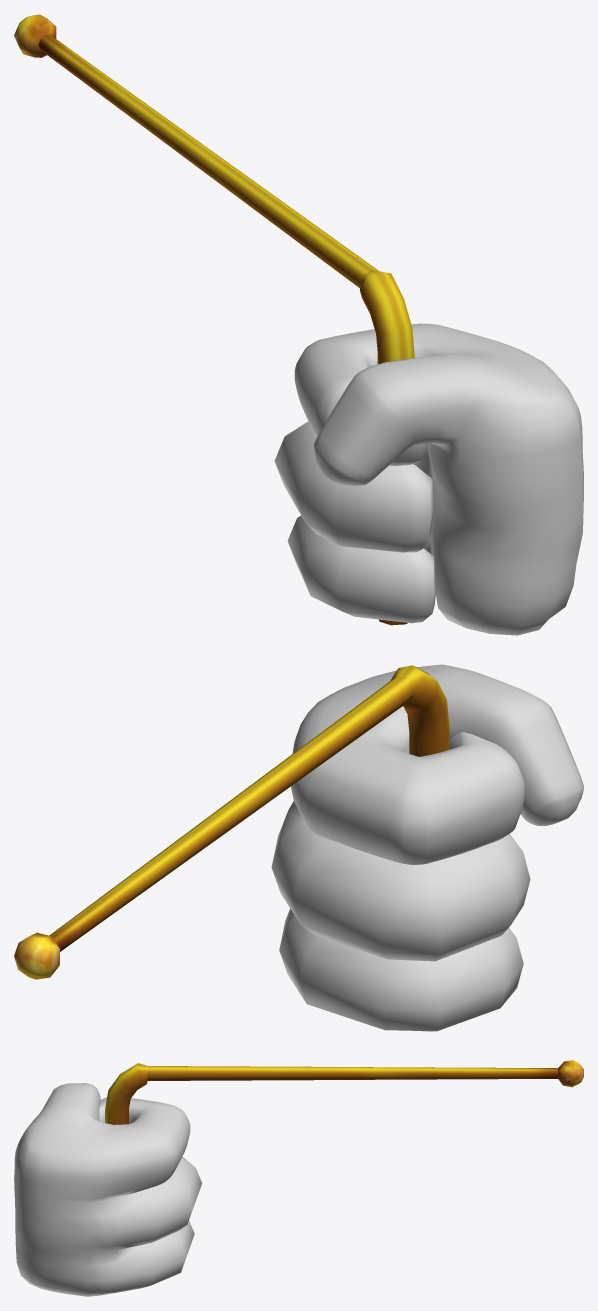
File: Lrod_R.FBX
3 renders of one model, top to bottom at view 1: azimuth 30°, elevation 25°; view 2: azimuth 150°, elevation 25°; view 3: azimuth 270°, elevation 25°, orthographic. The views are drawn at different scales.
Parts seen in each view (by area): view 1: Lrod_L_Hand, Lrod_L; view 2: Lrod_L_Hand, Lrod_L; view 3: Lrod_L_Hand, Lrod_L.
Boxes of the visible parts, <box> form: Lrod_L_Hand: <box>274,323,583,635</box>; Lrod_L: <box>14,14,414,625</box>; Lrod_L_Hand: <box>271,664,583,1031</box>; Lrod_L: <box>14,665,449,979</box>; Lrod_L_Hand: <box>14,1083,202,1296</box>; Lrod_L: <box>105,1060,583,1124</box>.
Size of the model in its own units: 7.26 by 9.48 by 23.08.
1 material, 1 textured.
